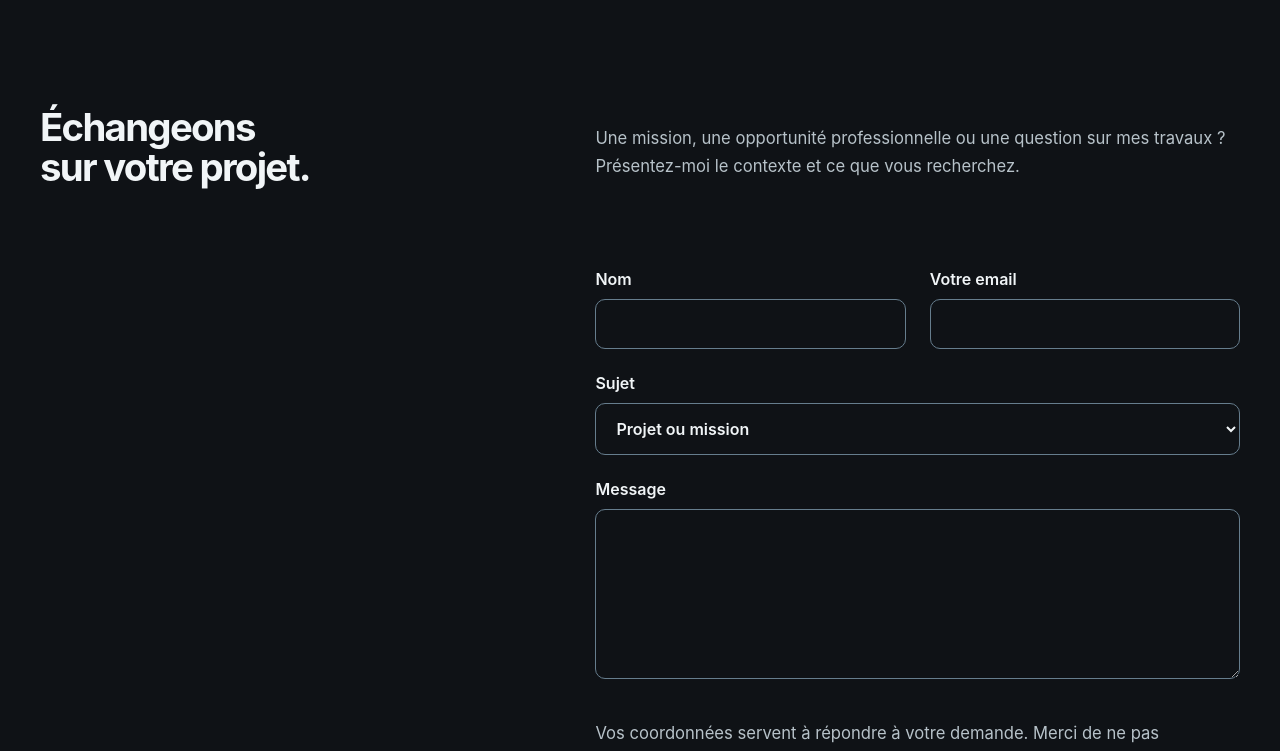
Test: protected contact › renders French labels, requires a token and acknowledges only provider acceptance
In the field labelled "Nom": (751, 324) [595,299,906,349], type "Test"
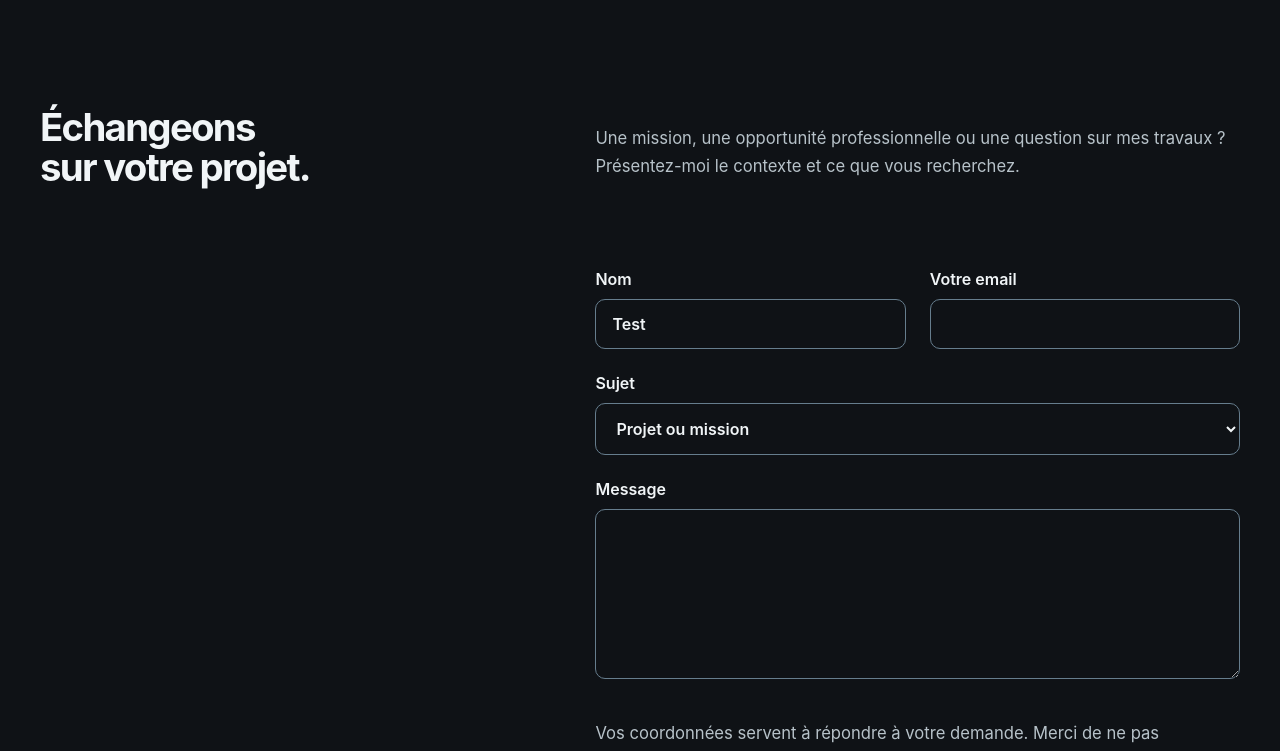
In the field labelled "Votre email": (1085, 324) [930,299,1240,349], type "visitor@example.com"
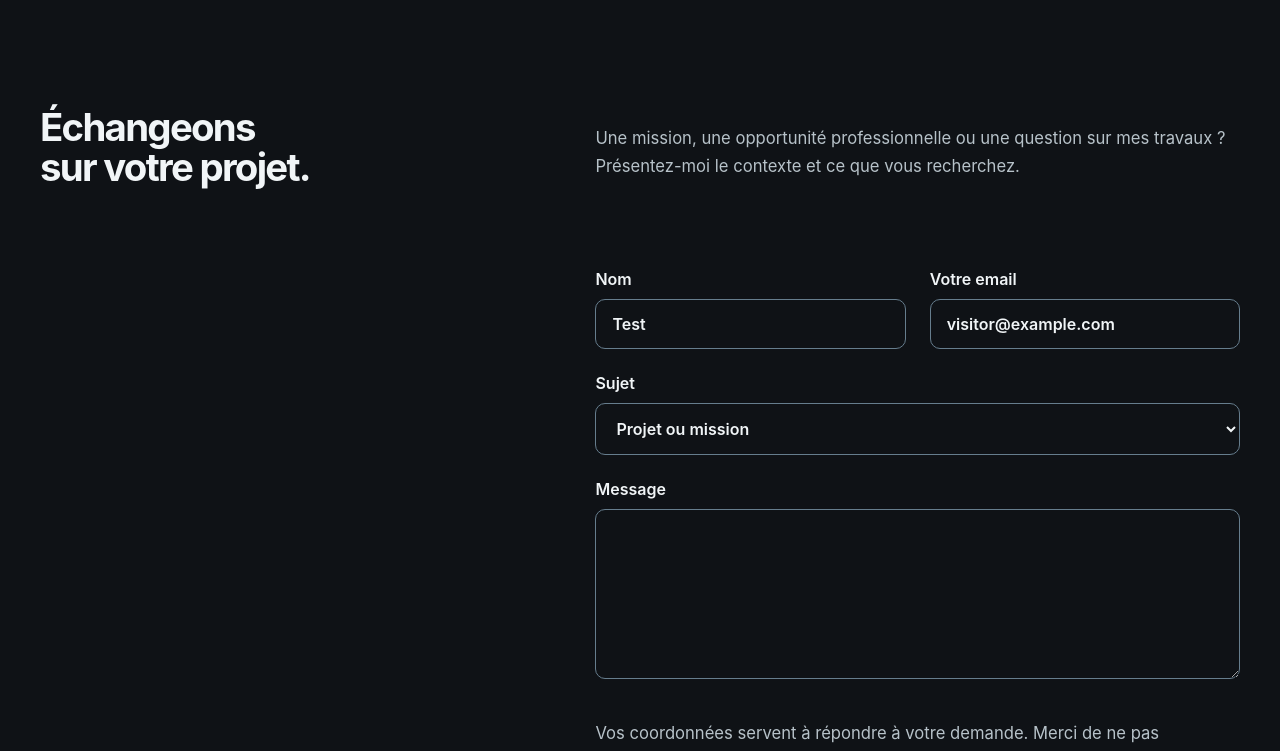
In the text box labelled "Message": (918, 594) [595,509,1240,679], type "Message de test purement local."
(page scrolled)
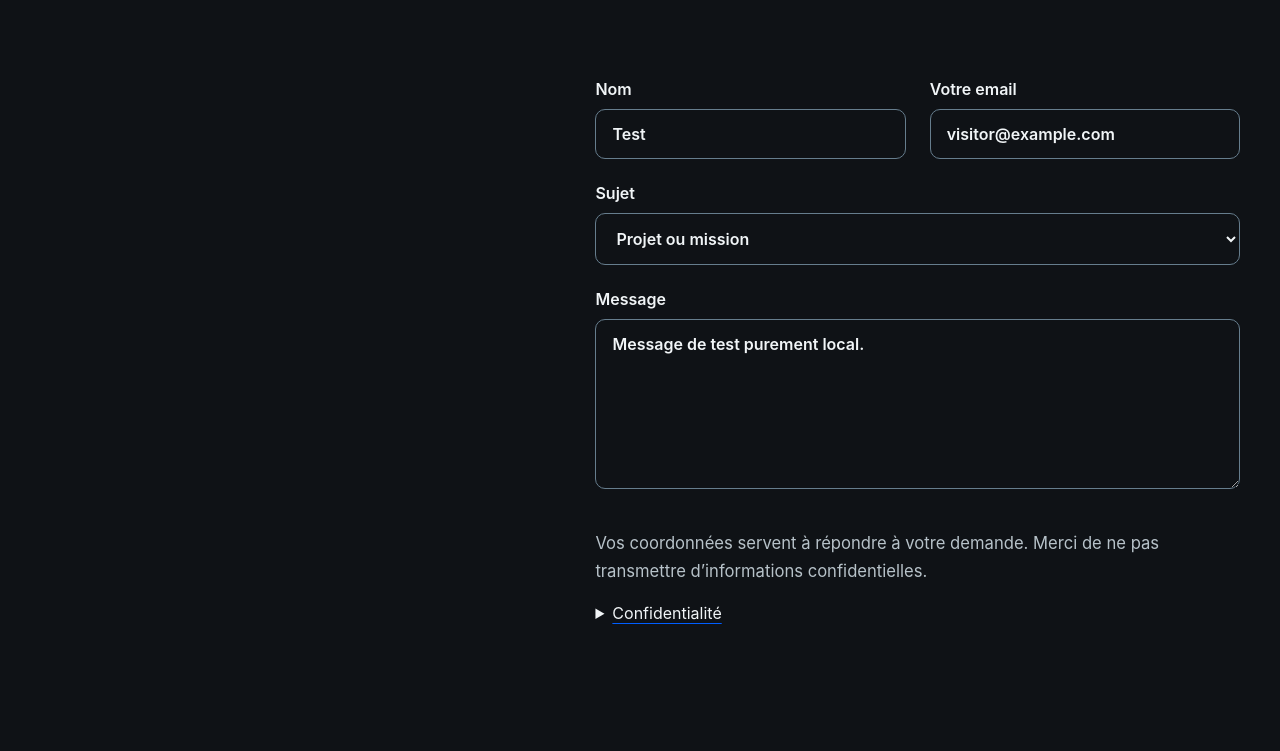
Submit the form named "Envoyer un message"
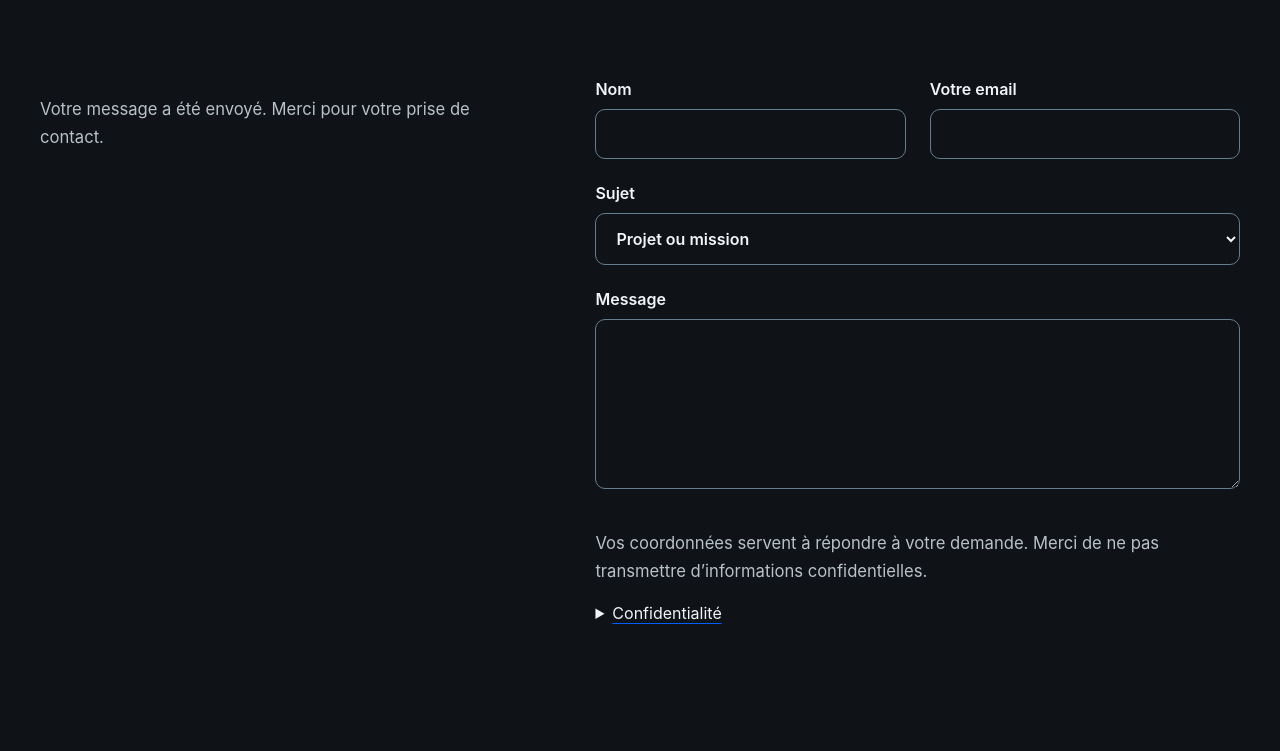
Check: the text "Votre message a été envoyé. Merci pour votre prise de contact." is shown, box [40,99,470,147]
